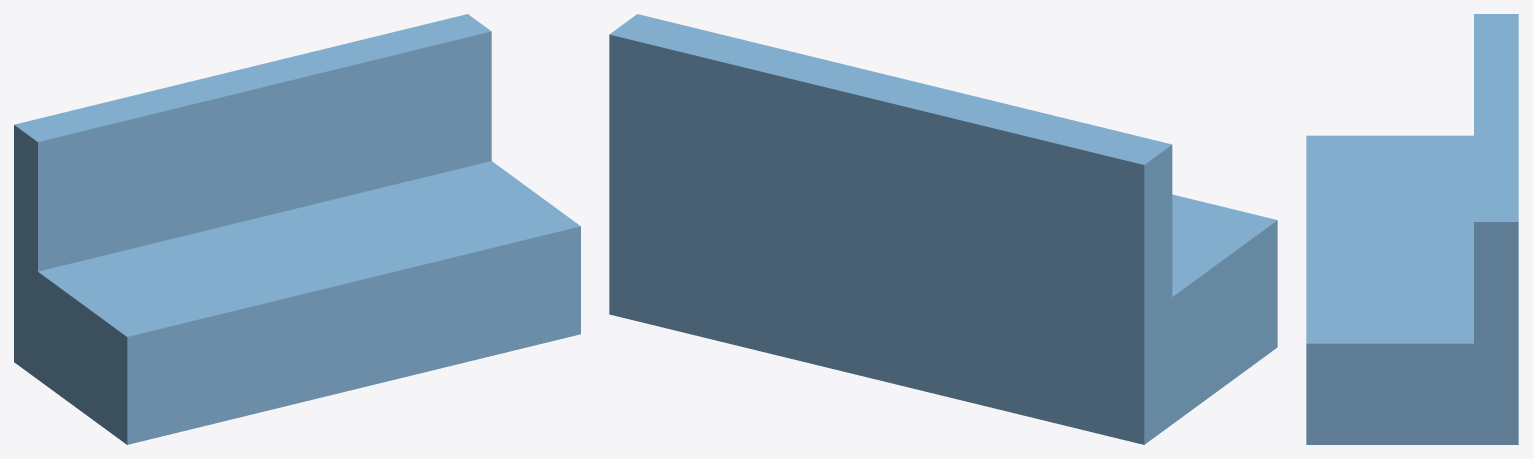
3 views of the same model, side by side, from view 1: azimuth 30°, elevation 25°; view 2: azimuth 150°, elevation 25°; view 3: azimuth 270°, elevation 25° (orthographic). The views are drawn at different scales.
Visible parts, largest first — view 1: recliner-base, recliner-back; view 2: recliner-back, recliner-base; view 3: recliner-base, recliner-back.
Boxes of the visible parts, <box> form: recliner-base: <box>14,161,580,444</box>; recliner-back: <box>14,14,491,314</box>; recliner-back: <box>609,14,1172,368</box>; recliner-base: <box>609,187,1277,444</box>; recliner-base: <box>1306,135,1518,444</box>; recliner-back: <box>1474,14,1518,382</box>.
Bounding box in the file's own units: 2.2 × 1.1 × 0.95.
